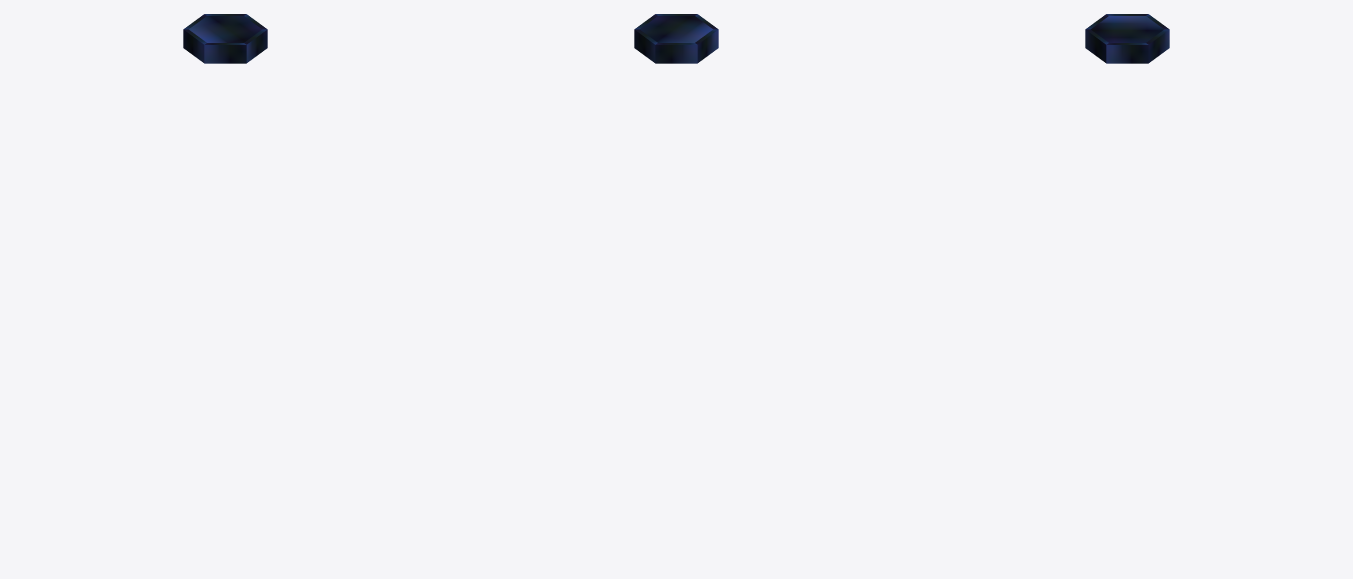
The model's file is water_cooler_bottle.fbx.
The picture shows the model from 3 angles, left to right: view 1: azimuth 30°, elevation 25°; view 2: azimuth 150°, elevation 25°; view 3: azimuth 270°, elevation 25°; orthographic projection.
Parts seen in each view (by area): view 1: water_cooler_bottle; view 2: water_cooler_bottle; view 3: water_cooler_bottle.
Part boxes in pixels (<box>): water_cooler_bottle: <box>183,14,267,63</box>; water_cooler_bottle: <box>634,14,718,63</box>; water_cooler_bottle: <box>1085,14,1169,63</box>.
Bounding box in the file's own units: 34.91 × 51.23 × 40.31.
